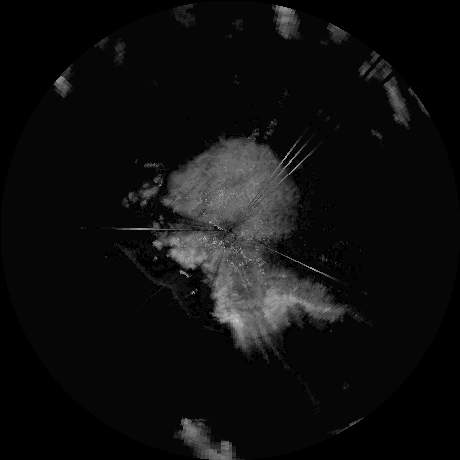frontgust: (121, 249, 183, 304)
